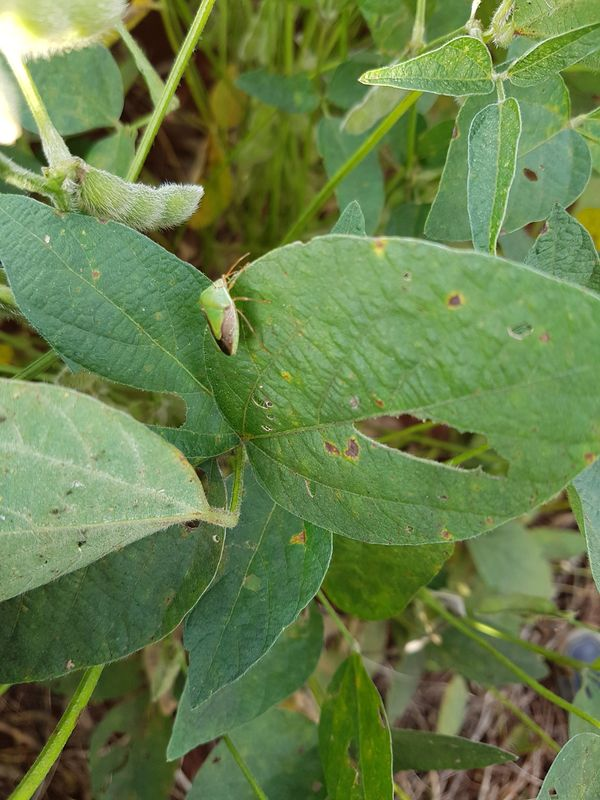Edessa_meditabunda: (185, 245, 278, 370)
